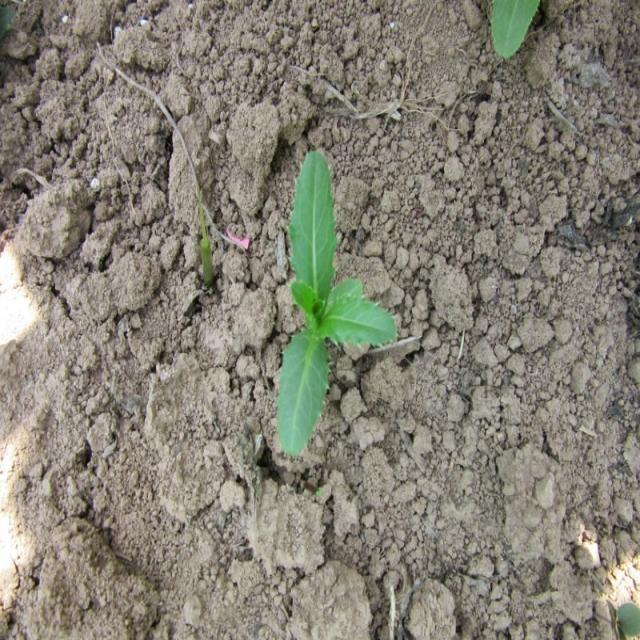field_thistle: (259, 143, 412, 466)
